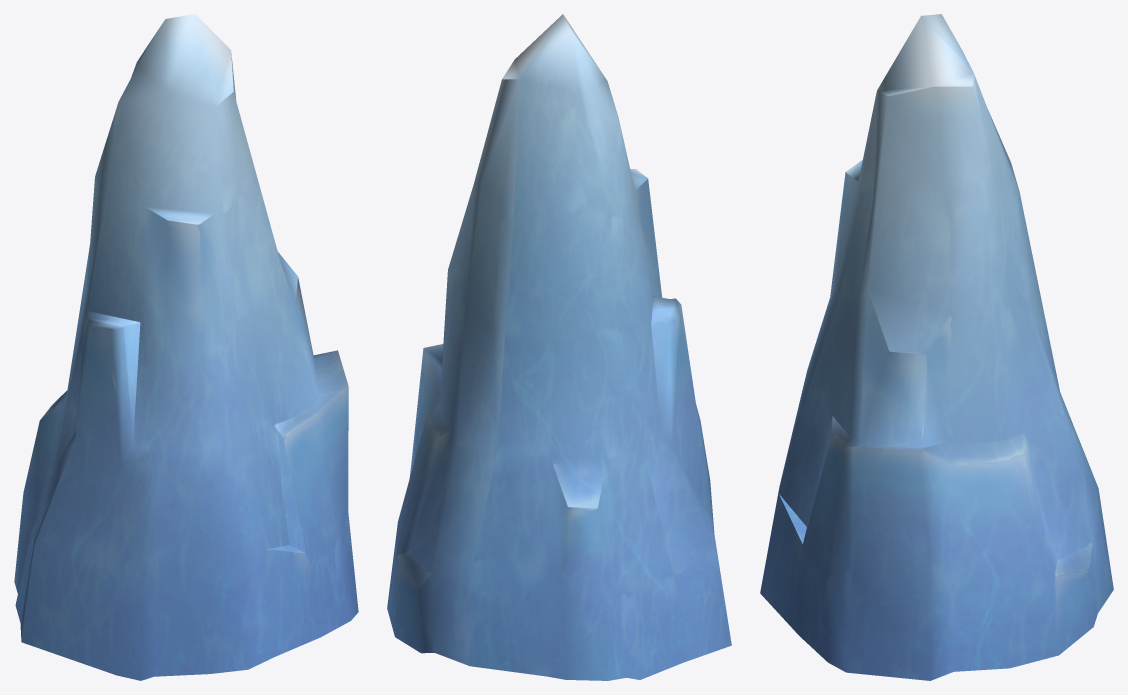
Rendered from crystal.fbx.
3 renders of one model, left to right at view 1: azimuth 30°, elevation 25°; view 2: azimuth 150°, elevation 25°; view 3: azimuth 270°, elevation 25°, orthographic.
Visible parts, largest first — view 1: honntai; view 2: honntai; view 3: honntai.
Part boxes in pixels (x1=…): honntai: x1=14, y1=14, x2=358, y2=680; honntai: x1=387, y1=14, x2=731, y2=680; honntai: x1=760, y1=14, x2=1113, y2=680.
Bounding box in the file's own units: 96.47 × 169 × 90.66.
